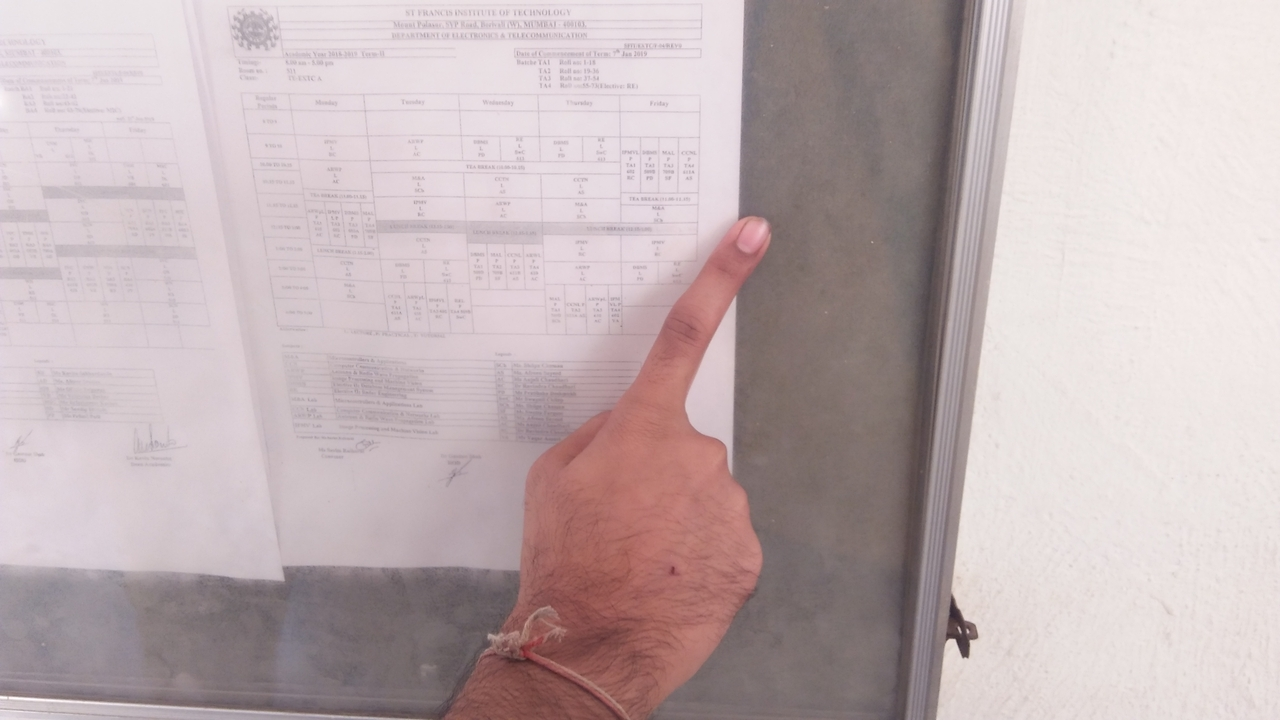fingertip: (714, 204, 782, 268)
